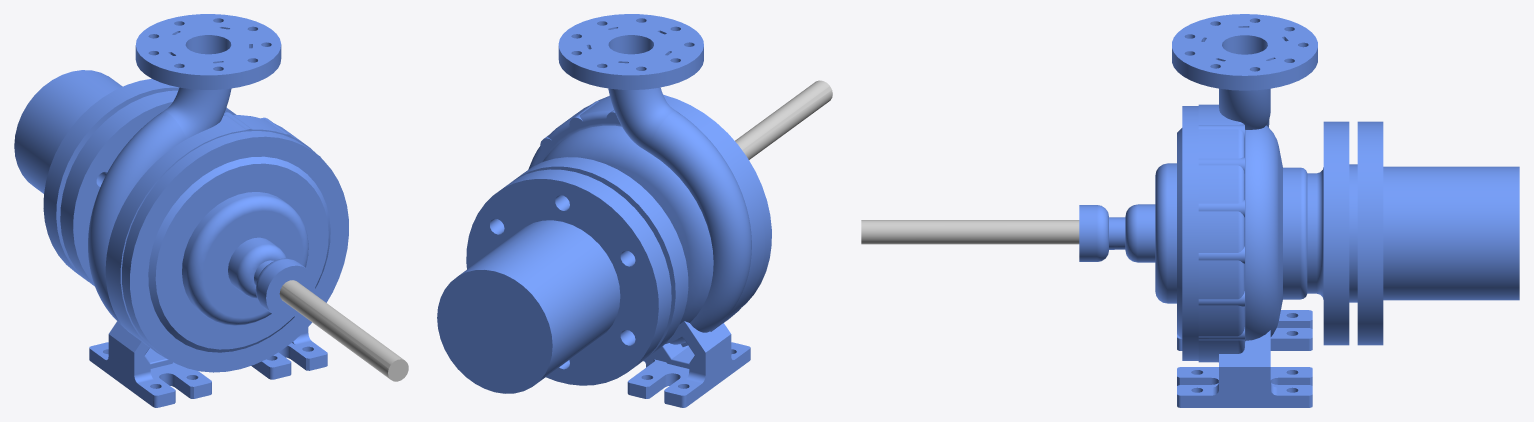
3 renders of one model, left to right at view 1: azimuth 30°, elevation 25°; view 2: azimuth 150°, elevation 25°; view 3: azimuth 270°, elevation 25°, orthographic.
Parts seen in each view (by area): view 1: Pump_body1, Pump_body2, Pump_propeller; view 2: Pump_body1, Pump_body2, Pump_propeller; view 3: Pump_body1, Pump_body2, Pump_propeller.
Part boxes in pixels (x1,y1,x2,y2): Pump_body1: (60,14,348,407); Pump_body2: (14,70,179,281); Pump_propeller: (279,280,408,381); Pump_body1: (513,14,771,407); Pump_body2: (437,169,671,393); Pump_propeller: (735,80,832,159); Pump_body1: (1079,14,1353,407); Pump_body2: (1353,121,1519,345); Pump_propeller: (861,220,1079,244).
Size of the model in its own units: 7.71 by 10.25 by 19.1.
